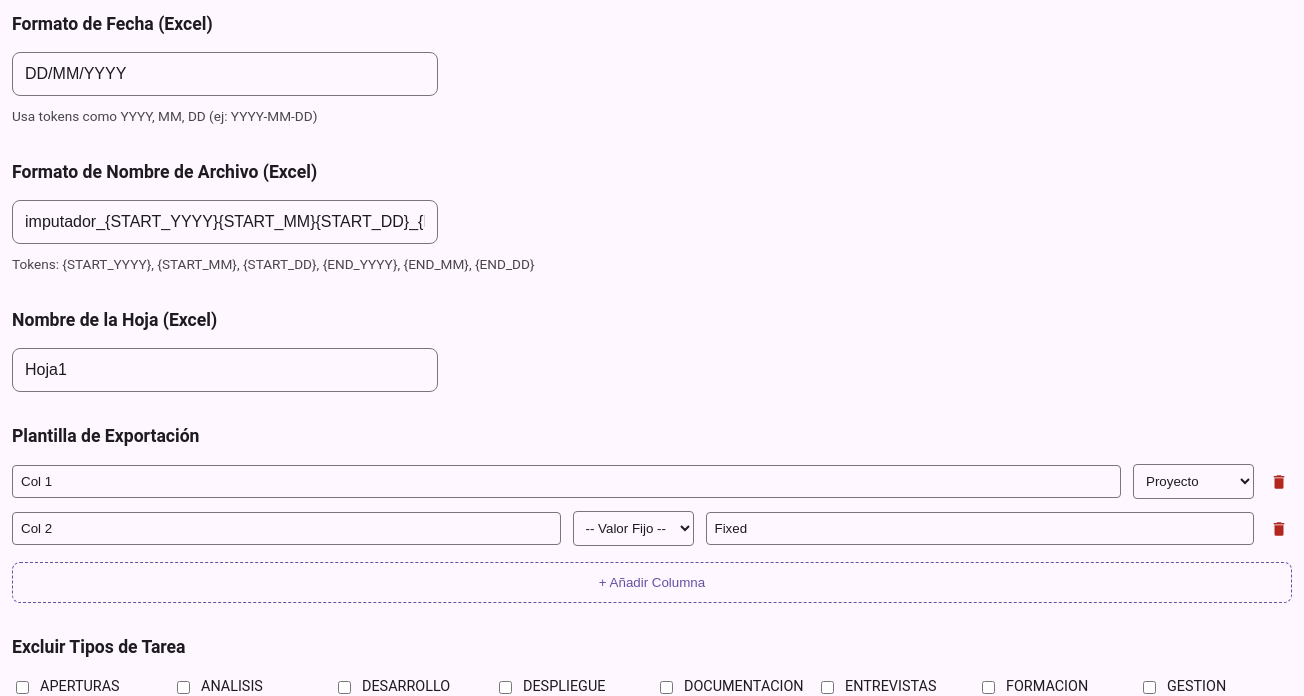
ExportSettings.svelte › should allow deleting a mapping
Click the 1st button titled "Eliminar": [1279, 482] box [1266, 468, 1292, 494]
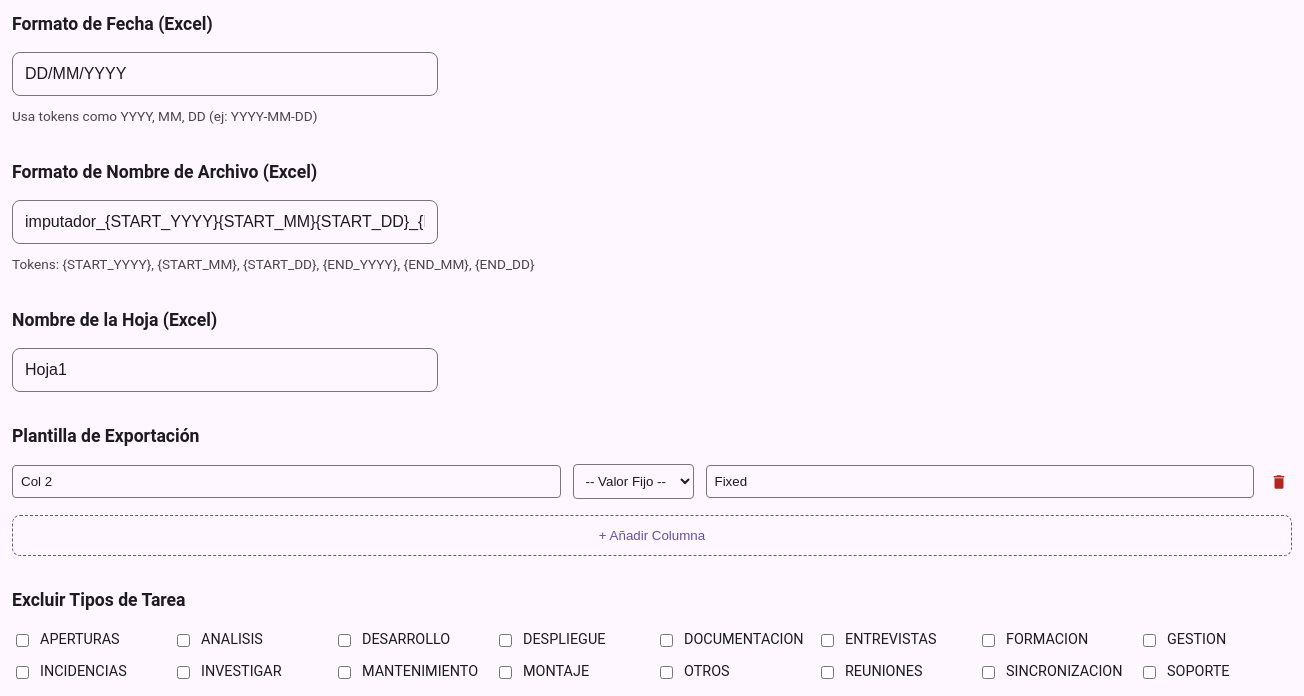
Check: the number of fields with placeholder "Nombre Columna" is 1, box [12, 465, 560, 498]
